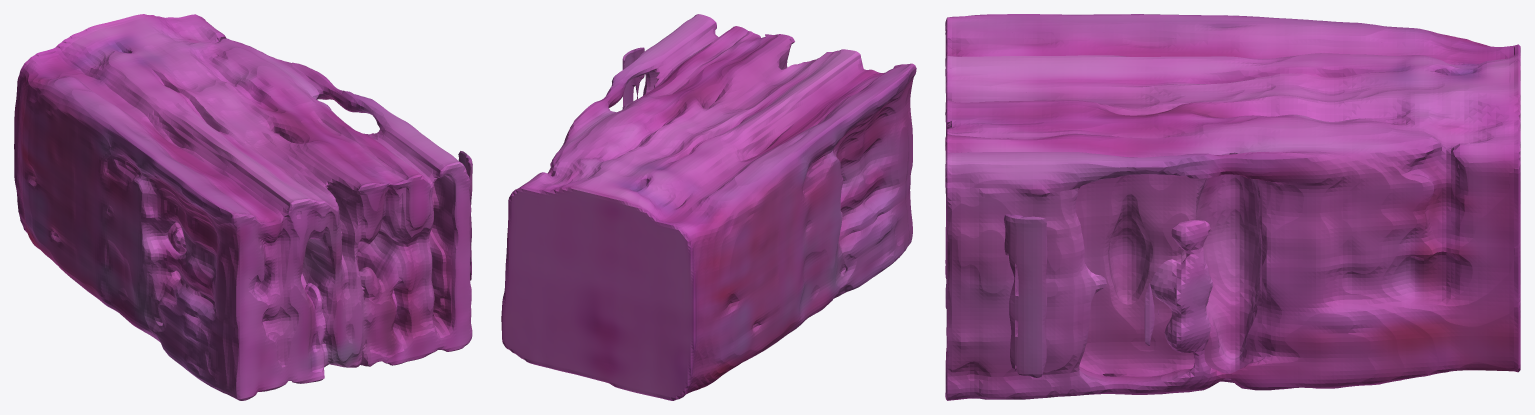
File: a_pink_tv.0.glb
3 renders of one model, left to right at view 1: azimuth 30°, elevation 25°; view 2: azimuth 150°, elevation 25°; view 3: azimuth 270°, elevation 25°, orthographic. The views are drawn at different scales.
Visible parts, largest first — view 1: a_pink_tv.0.obj; view 2: a_pink_tv.0.obj; view 3: a_pink_tv.0.obj.
Part boxes in pixels (x1,y1,x2,y2): a_pink_tv.0.obj: (14, 14, 472, 400); a_pink_tv.0.obj: (501, 14, 916, 400); a_pink_tv.0.obj: (945, 14, 1520, 400).
Bounding box in the file's own units: 1.4 × 0.9798 × 1.98.
